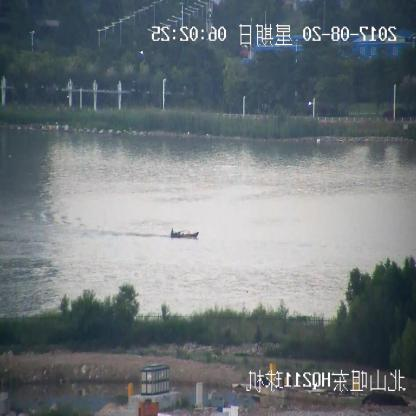Fishing Boat: (168, 226, 199, 238)
